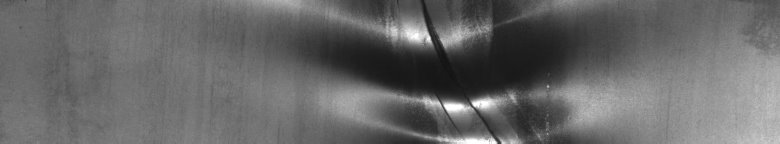ke: (379, 4, 550, 136)
